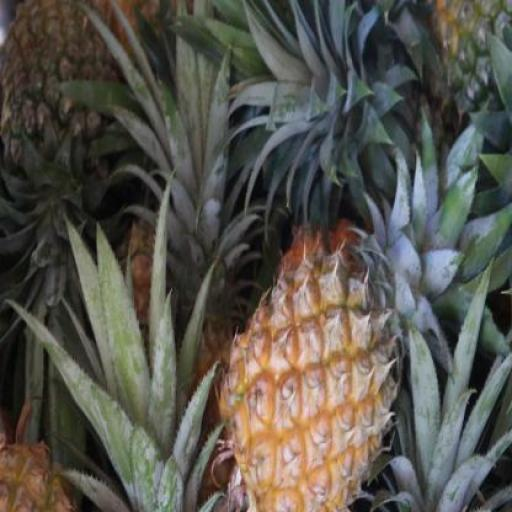Pineapple - v8 v1: (220, 237, 409, 512)
